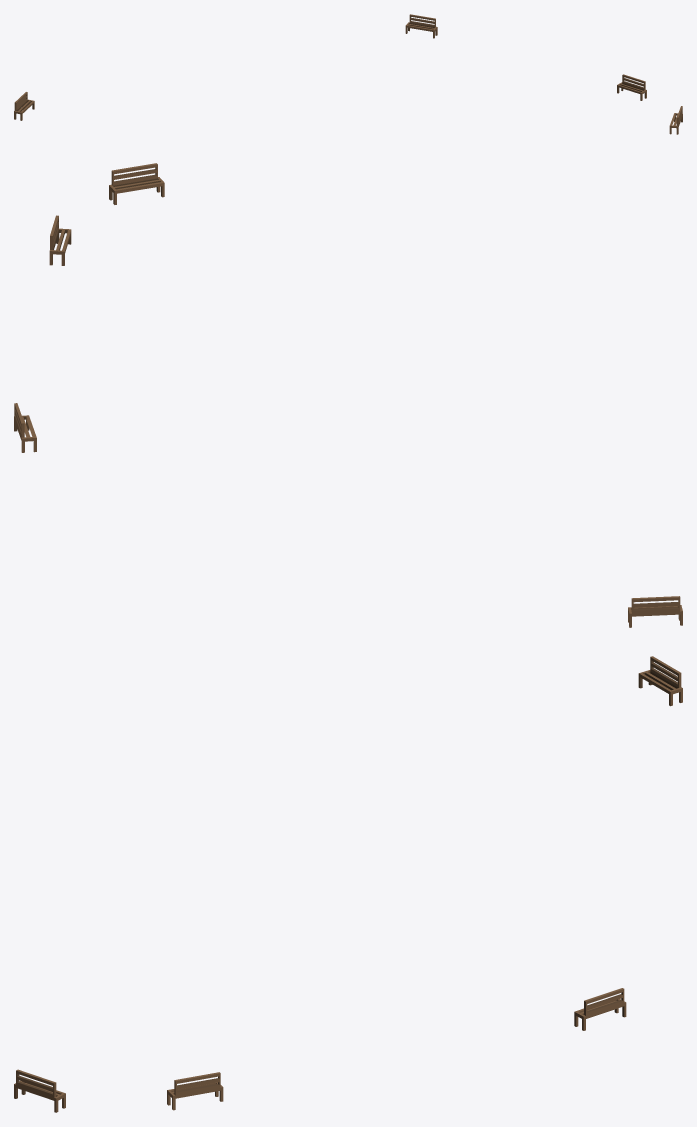
Rendered from Benches.gltf.
The picture shows the model from 3 angles, top to bottom: view 1: azimuth 30°, elevation 25°; view 2: azimuth 150°, elevation 25°; view 3: azimuth 270°, elevation 25°; orthographic projection. The views are drawn at different scales.
Parts seen in each view (by area): view 1: Cube.031; view 2: Cube.031; view 3: Cube.031.
Part boxes in pixels (x1,y1,x2,y2): Cube.031: [14, 14, 682, 134]; Cube.031: [14, 163, 682, 627]; Cube.031: [14, 656, 682, 1112].
Size of the model in its own units: 34.12 by 1.09 by 22.51.
1 material, 1 textured.
